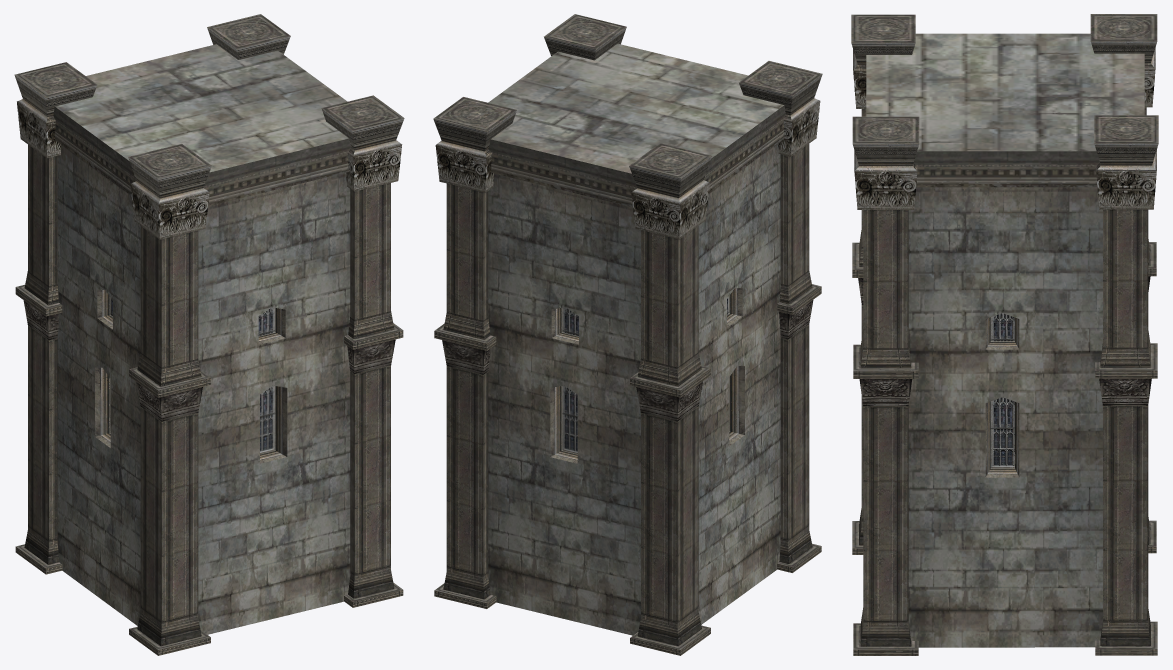
The model's file is SM_EN_2010_fangzi04.FBX.
3 renders of one model, left to right at view 1: azimuth 30°, elevation 25°; view 2: azimuth 150°, elevation 25°; view 3: azimuth 270°, elevation 25°, orthographic. The views are drawn at different scales.
Visible parts, largest first — view 1: SM_EN_2010_fangzi04; view 2: SM_EN_2010_fangzi04; view 3: SM_EN_2010_fangzi04.
Part boxes in pixels (left/top/right/bottom): SM_EN_2010_fangzi04: left=14, top=14, right=404, bottom=655; SM_EN_2010_fangzi04: left=433, top=14, right=822, bottom=655; SM_EN_2010_fangzi04: left=851, top=14, right=1158, bottom=655.
Size of the model in its own units: 368 by 676 by 368.
